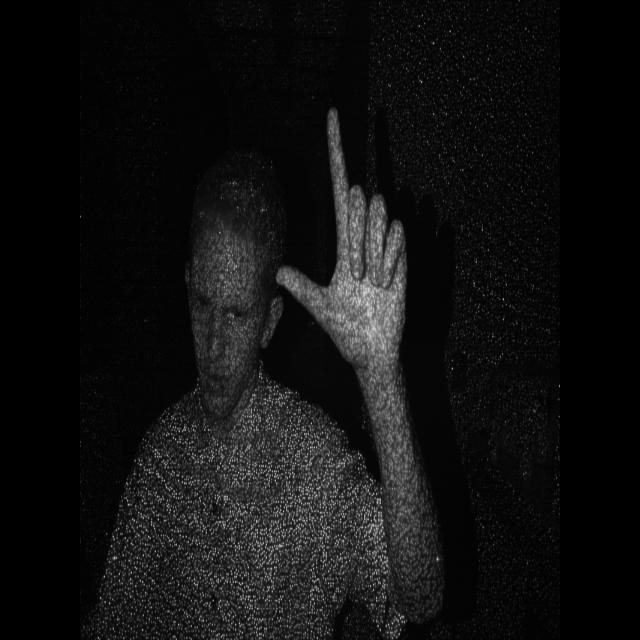L: (260, 95, 417, 404)
